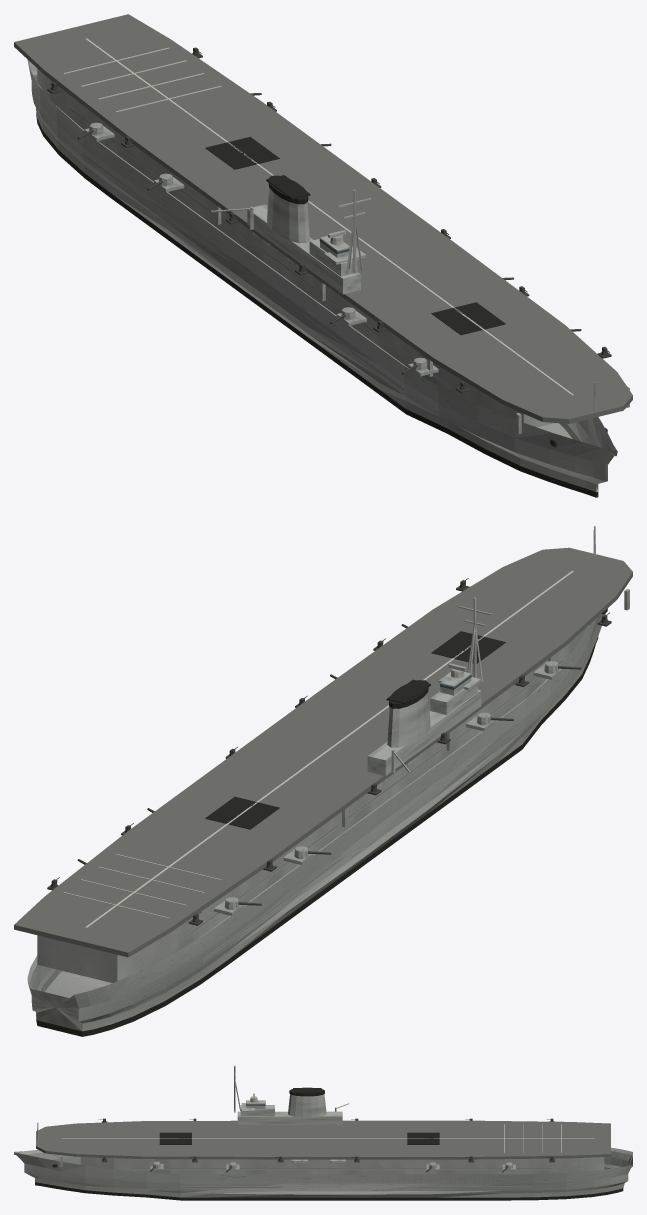
File: carrier.glb
3 renders of one model, top to bottom at view 1: azimuth 30°, elevation 25°; view 2: azimuth 150°, elevation 25°; view 3: azimuth 270°, elevation 25°, orthographic. The views are drawn at different scales.
Parts seen in each view (by area): view 1: pont_envol, coque, hangar, ligne_flottaison, ascenseur, ilot_base, cheminee_corps, hublots_tribord_2, ligne_axiale, defense_antiaerienne, hublots_tribord, ilot_passerelle (+2 smaller); view 2: pont_envol, coque, hangar, ligne_flottaison, ascenseur, ilot_base, cheminee_corps, hublots_tribord_2, ligne_axiale, defense_antiaerienne, ilot_passerelle, hublots_tribord (+2 smaller); view 3: pont_envol, coque, hangar, ligne_flottaison, ilot_base, ascenseur, cheminee_corps, hublots_babord_2, hublots_babord, ligne_axiale, ilot_passerelle, defense_antiaerienne (+1 smaller).
Boxes of the visible parts, left/top/right/bottom form: pont_envol: left=14, top=14, right=632, bottom=423; coque: left=27, top=60, right=617, bottom=492; hangar: left=37, top=69, right=554, bottom=427; ligne_flottaison: left=36, top=110, right=598, bottom=497; ascenseur: left=205, top=136, right=505, bottom=335; ilot_base: left=247, top=204, right=360, bottom=294; cheminee_corps: left=267, top=187, right=309, bottom=243; hublots_tribord_2: left=69, top=107, right=451, bottom=390; ligne_axiale: left=85, top=38, right=573, bottom=395; defense_antiaerienne: left=47, top=47, right=611, bottom=393; hublots_tribord: left=82, top=153, right=403, bottom=390; ilot_passerelle: left=309, top=239, right=366, bottom=276; pont_envol: left=14, top=547, right=632, bottom=957; coque: left=27, top=608, right=607, bottom=1031; hangar: left=37, top=627, right=587, bottom=982; ligne_flottaison: left=36, top=637, right=598, bottom=1036; ascenseur: left=205, top=631, right=505, bottom=829; ilot_base: left=367, top=689, right=481, bottom=775; cheminee_corps: left=387, top=692, right=430, bottom=747; hublots_tribord_2: left=181, top=659, right=563, bottom=941; ligne_axiale: left=85, top=571, right=573, bottom=927; defense_antiaerienne: left=47, top=578, right=611, bottom=925; ilot_passerelle: left=430, top=672, right=480, bottom=714; hublots_tribord: left=203, top=723, right=524, bottom=961; pont_envol: left=36, top=1120, right=610, bottom=1159; coque: left=14, top=1147, right=632, bottom=1197; hangar: left=80, top=1157, right=604, bottom=1174; ligne_flottaison: left=35, top=1182, right=623, bottom=1200; ilot_base: left=237, top=1111, right=342, bottom=1124; ascenseur: left=159, top=1132, right=439, bottom=1144; cheminee_corps: left=288, top=1094, right=326, bottom=1117; hublots_babord_2: left=133, top=1168, right=551, bottom=1169; hublots_babord: left=180, top=1186, right=532, bottom=1188; ligne_axiale: left=61, top=1138, right=594, bottom=1138; ilot_passerelle: left=240, top=1103, right=274, bottom=1116; defense_antiaerienne: left=98, top=1118, right=554, bottom=1162.
Size of the model in its own units: 1.27 by 1.19 by 6.5.
9 materials, 3 textured.
